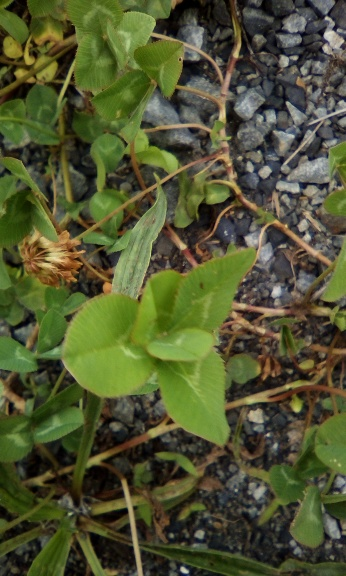4leaf: (59, 248, 258, 447)
